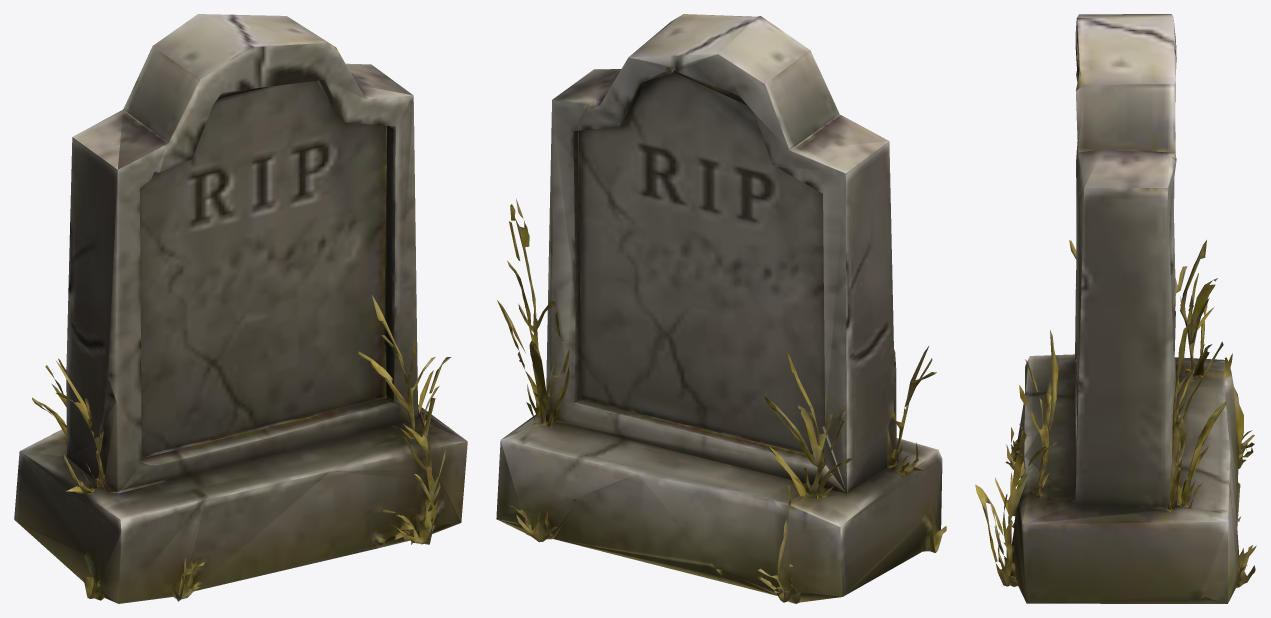
File: obj_gravestone.glb
3 views of the same model, side by side, from view 1: azimuth 30°, elevation 25°; view 2: azimuth 150°, elevation 25°; view 3: azimuth 270°, elevation 25° (orthographic).
Parts seen in each view (by area): view 1: Gravestone; view 2: Gravestone; view 3: Gravestone.
Part boxes in pixels (x1=…): Gravestone: x1=14, y1=14, x2=467, y2=603; Gravestone: x1=496, y1=14, x2=946, y2=603; Gravestone: x1=975, y1=14, x2=1256, y2=603.
Size of the model in its own units: 1.57 by 1.9 by 0.9673.
Materials: 1 (1 with a texture image).
